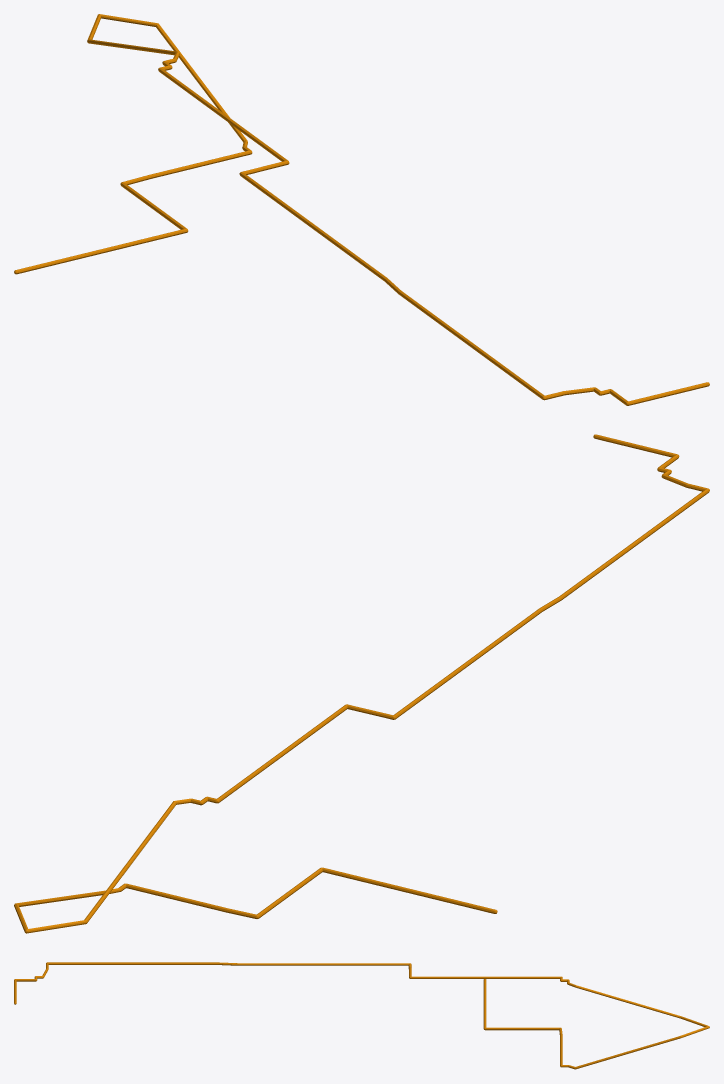
3 renders of one model, top to bottom at view 1: azimuth 30°, elevation 25°; view 2: azimuth 150°, elevation 25°; view 3: azimuth 270°, elevation 25°, orthographic. The views are drawn at different scales.
Bounding box in the file's own units: 1548 × 520 × 5070.
